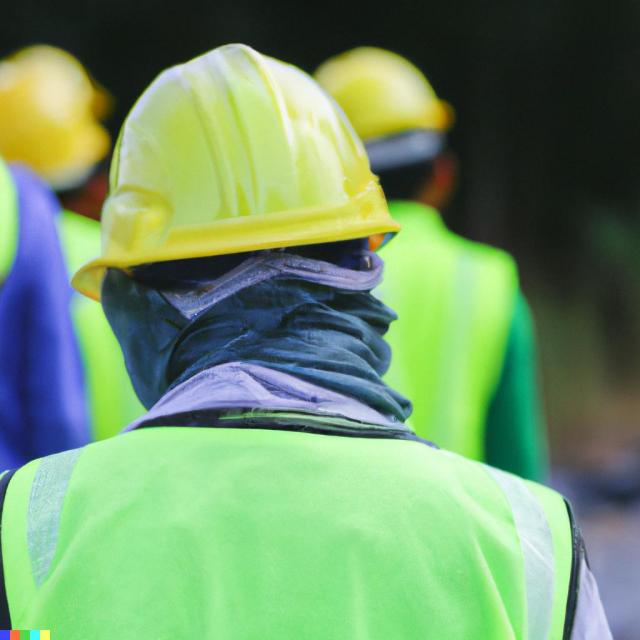Reflective-Jacket: (0, 420, 594, 634)
Safety-Helmet: (76, 43, 410, 275), (295, 39, 460, 177)
